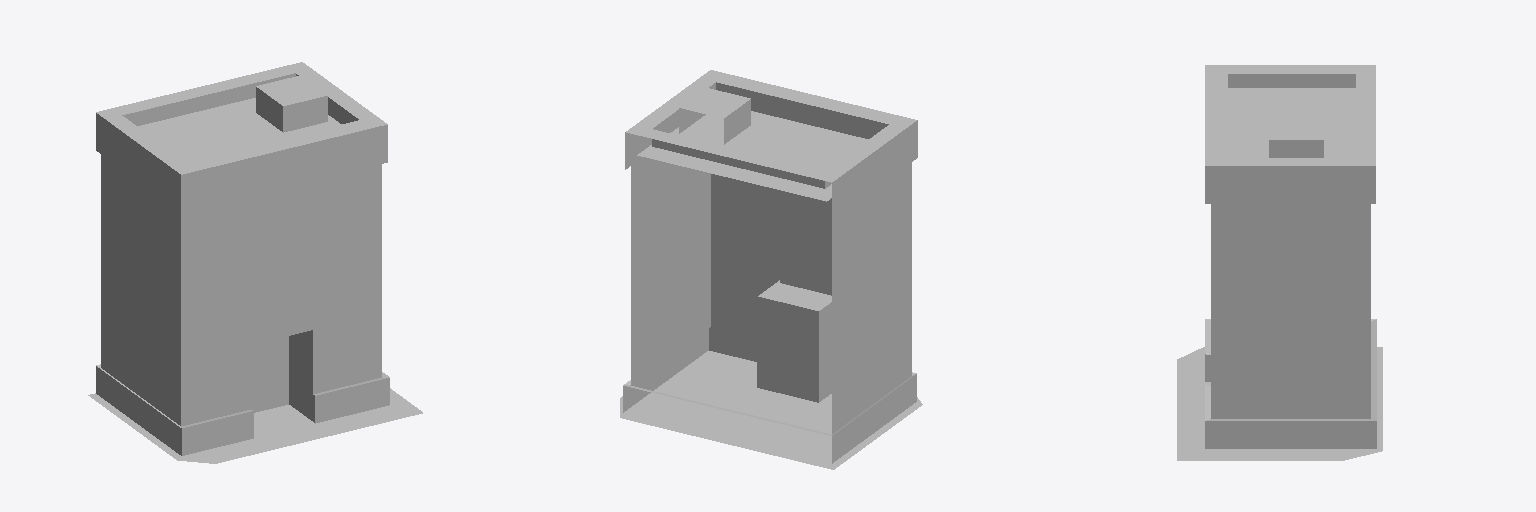
Rendered from Jubilife City Building.obj.
The picture shows the model from 3 angles: view 1: azimuth 30°, elevation 25°; view 2: azimuth 150°, elevation 25°; view 3: azimuth 270°, elevation 25°; orthographic projection.
Visible parts, largest first — view 1: polygon3, polygon2, polygon0; view 2: polygon3, polygon2, polygon0, polygon1; view 3: polygon3, polygon2, polygon0.
Part boxes in pixels (left/top/right/bottom): polygon3: left=96, top=62, right=389, bottom=455; polygon2: left=113, top=175, right=367, bottom=422; polygon0: left=88, top=98, right=422, bottom=463; polygon3: left=623, top=70, right=917, bottom=463; polygon2: left=642, top=161, right=899, bottom=424; polygon0: left=620, top=351, right=922, bottom=469; polygon1: left=724, top=177, right=831, bottom=295; polygon3: left=1205, top=65, right=1376, bottom=448; polygon2: left=1234, top=218, right=1347, bottom=418; polygon0: left=1177, top=88, right=1382, bottom=460.
Size of the model in its own units: 83.7 by 101 by 63.55.